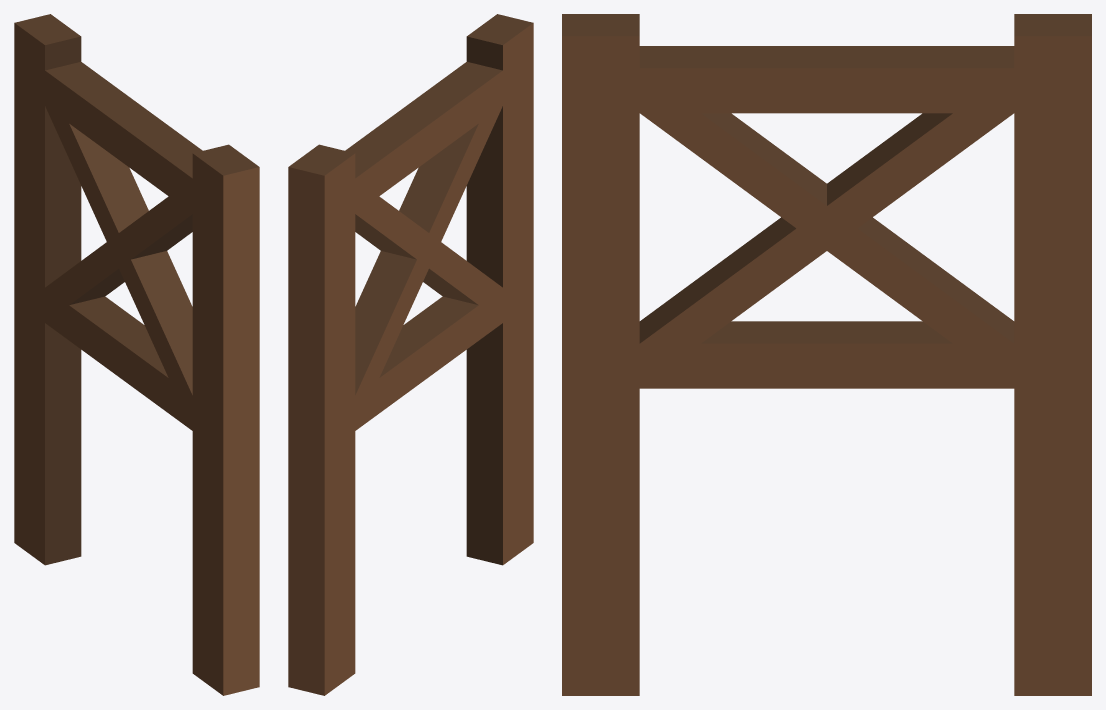
Rendered from valla3.fbx.
The picture shows the model from 3 angles, left to right: view 1: azimuth 30°, elevation 25°; view 2: azimuth 150°, elevation 25°; view 3: azimuth 270°, elevation 25°; orthographic projection. The views are drawn at different scales.
Parts seen in each view (by area): view 1: fenceUp.001; view 2: fenceUp.001; view 3: fenceUp.001.
Part boxes in pixels (x1,y1,x2,y2): fenceUp.001: [14, 14, 259, 695]; fenceUp.001: [288, 14, 533, 695]; fenceUp.001: [562, 14, 1091, 695].
Size of the model in its own units: 30 by 412 by 300.
1 material, 1 textured.
